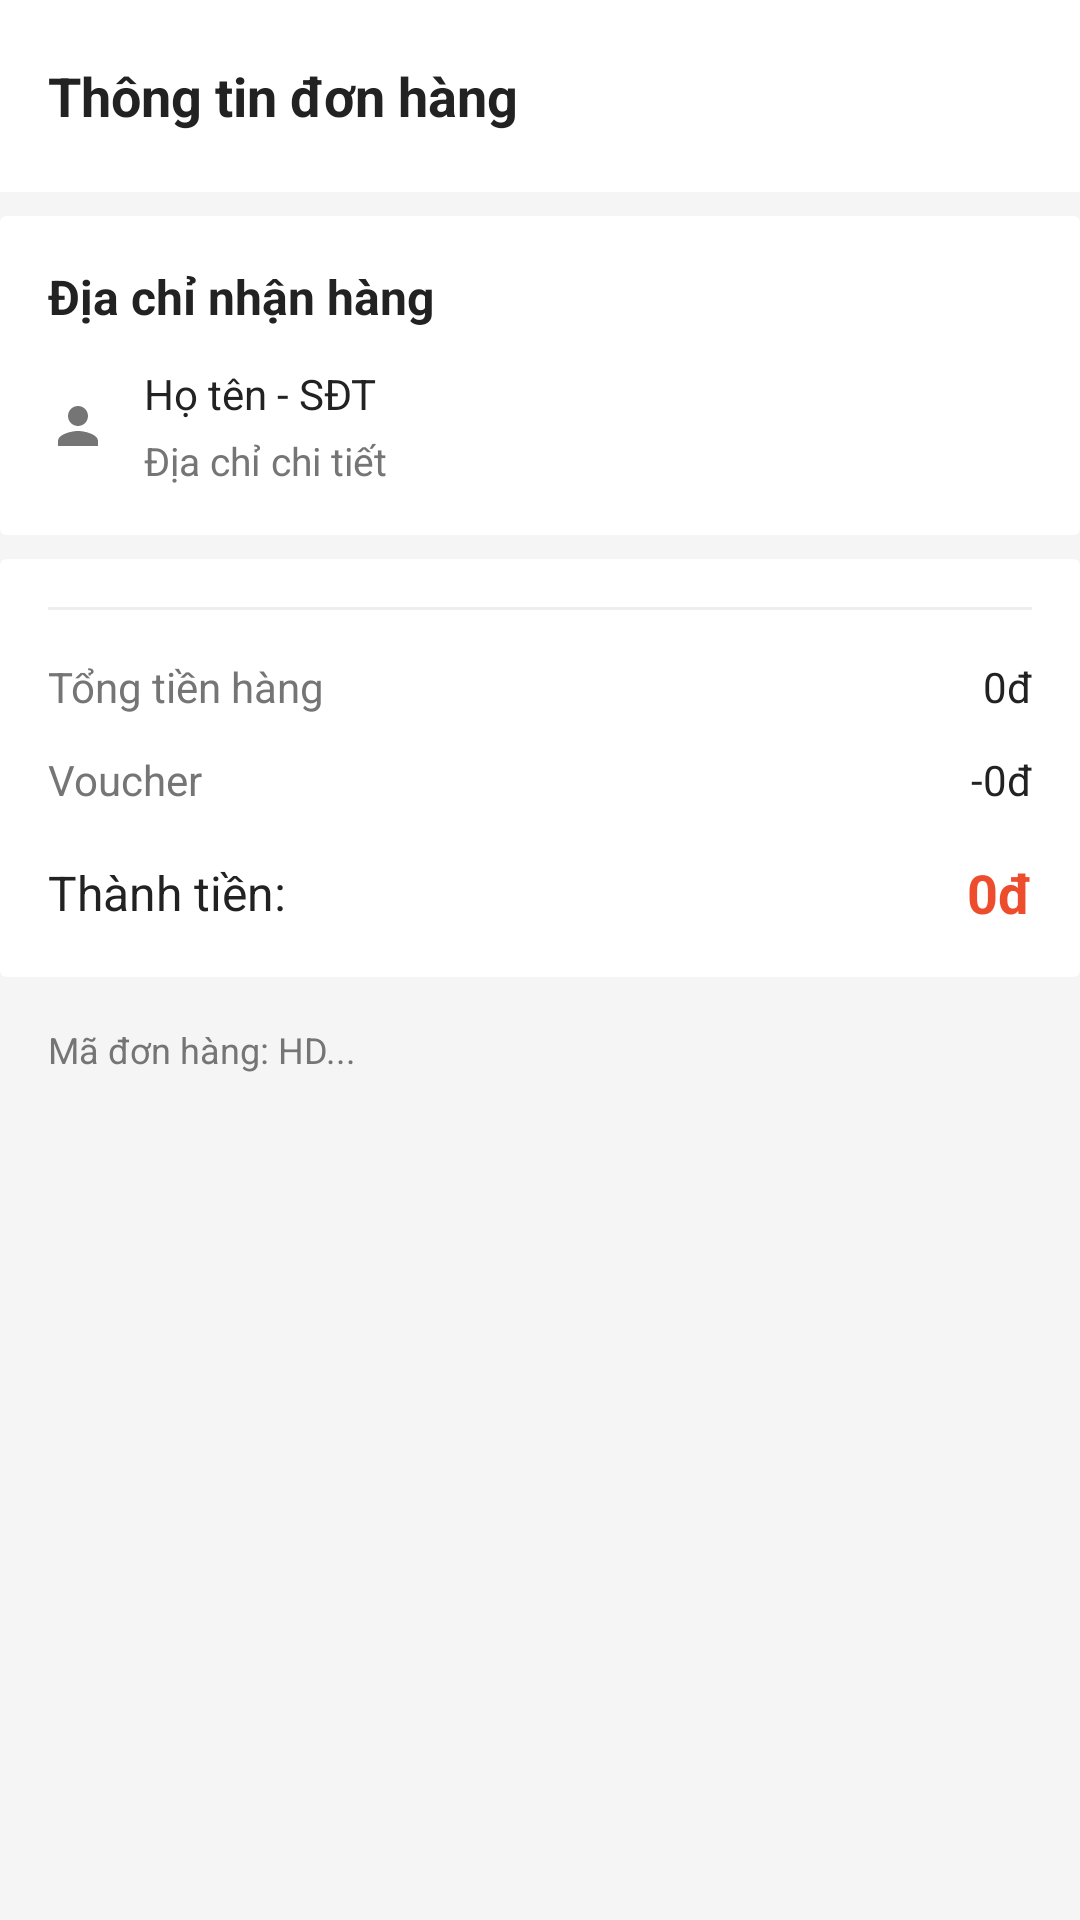

Locate icon controls on the screen. Image size 1080×1920, boxes as [left=x1, top=y1, right=x2, bottom=y2].
person: [left=58, top=406, right=98, bottom=446]
